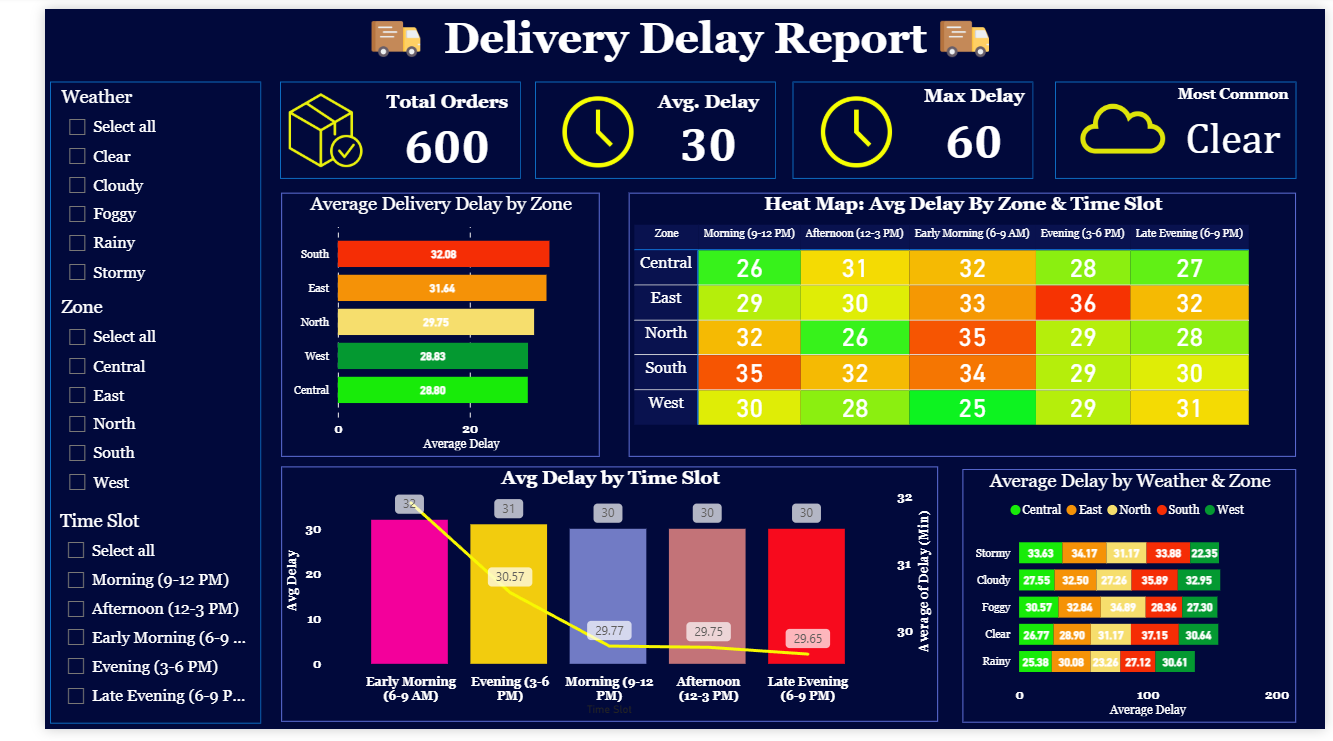

The dashboard page shown, as its layout file describes it:
{"tool":"powerbi","page":{"name":"Page 1","canvas":[1280,720],"ordinal":0},"visuals":[{"type":"textbox","box":[0,0,1280.3,63.1],"z":0,"group":"g7"},{"type":"image","box":[882.3,0,74.1,60],"z":0},{"type":"image","box":[234.6,72.7,91.6,97.4],"z":0,"group":"g5"},{"type":"shape","box":[489.9,72.7,241,97.4],"z":0,"group":"g3"},{"type":"shape","box":[747.9,72.7,241,97.4],"z":0,"group":"g4"},{"type":"group","id":"g1","title":"Group 10","box":[1010,72.7,241.5,97.4],"z":0,"group":"g10"},{"type":"shape","box":[1010,72.7,241.5,97.4],"z":0,"group":"g1"},{"type":"card","title":"Max Delay","fields":{"Values":["Max(Delivery_Delay_Dataset.Delay (Min))"]},"box":[868.7,76.8,120.8,89.2],"z":0,"group":"g9"},{"type":"card","title":"Total Orders","fields":{"Values":["Delivery_Delay_Dataset.Total Orders"]},"box":[328.6,82.3,147,87.8],"z":0,"group":"g2"},{"type":"card","title":"Avg. Delay","fields":{"Values":["Delivery_Delay_Dataset.Avg Delay"]},"box":[603.8,82.3,119.4,82.3],"z":0,"group":"g8"},{"type":"slicer","title":"Zone","fields":{"Values":["Delivery_Delay_Dataset.Zone"]},"box":[11.4,287.8,200.3,213.6],"z":0,"group":"g6"},{"type":"image","box":[314.2,0,74.1,60.4],"z":1000,"group":"g7"},{"type":"shape","box":[4.5,72.7,211.3,642.2],"z":1000,"group":"g6"},{"type":"group","id":"g2","title":"Group 1","box":[234.6,72.7,241,97.4],"z":1000,"group":"g5"},{"type":"shape","box":[234.6,72.7,241,97.4],"z":1000,"group":"g2"},{"type":"group","id":"g3","title":"Group 6","box":[489.9,72.7,241,97.4],"z":1000,"group":"g8"},{"type":"group","id":"g4","title":"Group 8","box":[747.9,72.7,241,97.4],"z":1000,"group":"g9"},{"type":"image","box":[1025.1,72.7,105.7,94.7],"z":1000,"group":"g10"},{"type":"card","title":"Most Common","fields":{"Values":["Min(Delivery_Delay_Dataset.Weather)"]},"box":[1125.3,76.8,126.2,89.2],"z":1000,"group":"g1"},{"type":"image","box":[495.4,82.3,115.3,81],"z":1000,"group":"g3"},{"type":"image","box":[767.1,82.3,90.6,81],"z":1000,"group":"g4"},{"type":"clusteredBarChart","title":"Average Delivery Delay by Zone","fields":{"Category":["Delivery_Delay_Dataset.Zone"],"Y":["Avg(Delivery_Delay_Dataset.Delay (Min))"]},"box":[236.6,183.8,318.3,263.8],"z":1000},{"type":"pivotTable","title":"Heat Map:  Avg Delay By Zone & Time Slot ","fields":{"Rows":["Delivery_Delay_Dataset.Zone"],"Columns":["Delivery_Delay_Dataset.Time Slot"],"Values":["Delivery_Delay_Dataset.Avg Delay"]},"box":[583.8,183.8,667.2,263.8],"z":2000},{"type":"slicer","title":"Time Slot","fields":{"Values":["Delivery_Delay_Dataset.Time Slot"]},"box":[10,501.3,200.3,213.6],"z":2000,"group":"g6"},{"type":"slicer","title":"Weather","fields":{"Values":["Delivery_Delay_Dataset.Weather"]},"box":[11.4,77.3,200.3,213.1],"z":3000,"group":"g6"},{"type":"lineClusteredColumnComboChart","title":"Avg Delay  by Time Slot","fields":{"Category":["Delivery_Delay_Dataset.Time Slot"],"Y":["Delivery_Delay_Dataset.Avg Delay"],"Y2":["Avg(Delivery_Delay_Dataset.Delay (Min))"]},"box":[236.6,457.9,657,255.3],"z":3000},{"type":"barChart","title":"Average Delay by Weather & Zone","fields":{"Series":["Delivery_Delay_Dataset.Zone"],"Y":["Avg(Delivery_Delay_Dataset.Delay (Min))"],"Category":["Delivery_Delay_Dataset.Weather"]},"box":[917.4,459.6,333.6,253.6],"z":4000},{"type":"group","id":"g5","title":"Group 2","box":[234.6,72.7,241,97.4],"z":5000},{"type":"group","id":"g6","title":"Group 3","box":[4.5,72.7,211.3,642.2],"z":6000},{"type":"group","id":"g7","title":"Group 5","box":[0,0,1280.3,63.1],"z":7000},{"type":"group","id":"g8","title":"Group 7","box":[489.9,72.7,241,97.4],"z":8000},{"type":"group","id":"g9","title":"Group 9","box":[747.9,72.7,241.5,97.4],"z":9000},{"type":"group","id":"g10","title":"Group 11","box":[1010,72.7,241.5,97.4],"z":10000}]}

Visuals, with their boxes in screenshot pixels (x1, y1, x2, y2), scaled from the page's 1280x720 canvas onto the 1333x741 screenshot:
textbox: (left=0, top=0, right=1332, bottom=65)
image: (left=919, top=0, right=996, bottom=62)
image: (left=244, top=75, right=340, bottom=175)
shape: (left=510, top=75, right=761, bottom=175)
shape: (left=779, top=75, right=1030, bottom=175)
"Group 10" group: (left=1052, top=75, right=1303, bottom=175)
shape: (left=1052, top=75, right=1303, bottom=175)
"Max Delay" card: (left=905, top=79, right=1030, bottom=171)
"Total Orders" card: (left=342, top=85, right=495, bottom=175)
"Avg. Delay" card: (left=629, top=85, right=753, bottom=169)
"Zone" slicer: (left=12, top=296, right=220, bottom=516)
image: (left=327, top=0, right=404, bottom=62)
shape: (left=5, top=75, right=225, bottom=736)
"Group 1" group: (left=244, top=75, right=495, bottom=175)
shape: (left=244, top=75, right=495, bottom=175)
"Group 6" group: (left=510, top=75, right=761, bottom=175)
"Group 8" group: (left=779, top=75, right=1030, bottom=175)
image: (left=1068, top=75, right=1178, bottom=172)
"Most Common" card: (left=1172, top=79, right=1303, bottom=171)
image: (left=516, top=85, right=636, bottom=168)
image: (left=799, top=85, right=893, bottom=168)
"Average Delivery Delay by Zone" clusteredBarChart: (left=246, top=189, right=578, bottom=461)
"Heat Map:  Avg Delay By Zone & Time Slot " pivotTable: (left=608, top=189, right=1303, bottom=461)
"Time Slot" slicer: (left=10, top=516, right=219, bottom=736)
"Weather" slicer: (left=12, top=80, right=220, bottom=299)
"Avg Delay  by Time Slot" lineClusteredColumnComboChart: (left=246, top=471, right=931, bottom=734)
"Average Delay by Weather & Zone" barChart: (left=955, top=473, right=1303, bottom=734)
"Group 2" group: (left=244, top=75, right=495, bottom=175)
"Group 3" group: (left=5, top=75, right=225, bottom=736)
"Group 5" group: (left=0, top=0, right=1332, bottom=65)
"Group 7" group: (left=510, top=75, right=761, bottom=175)
"Group 9" group: (left=779, top=75, right=1030, bottom=175)
"Group 11" group: (left=1052, top=75, right=1303, bottom=175)
